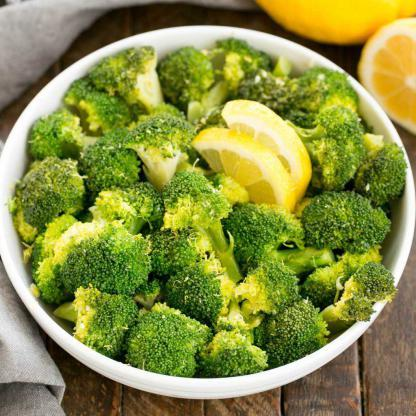broccoli: (1, 35, 408, 377)
